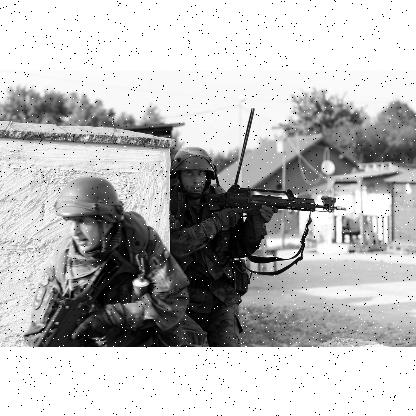gun: (174, 104, 348, 250), (36, 248, 140, 346)
